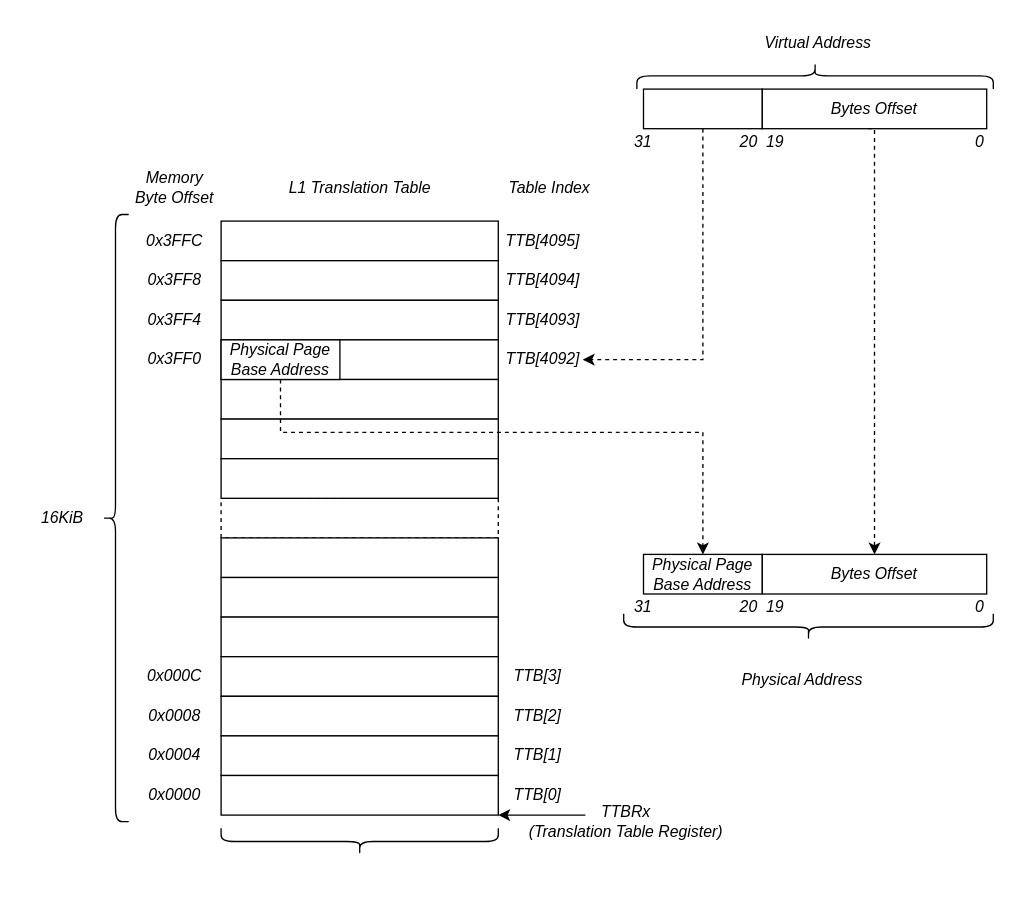
Image size: 1016x916. Some labels were removed from this diagram. The centre of each missing label's shape, as x and y in pixels:
"4 Bytes (1 Word)" belongs at pixel 359 841.
"L1 Table Index" belongs at pixel 702 108.
